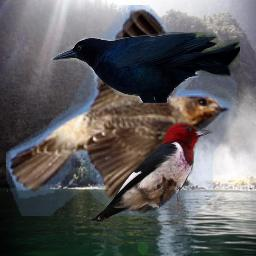Crow: (51, 32, 240, 103)
Swallow: (6, 5, 237, 216)
Woodpecker: (84, 121, 216, 222)
